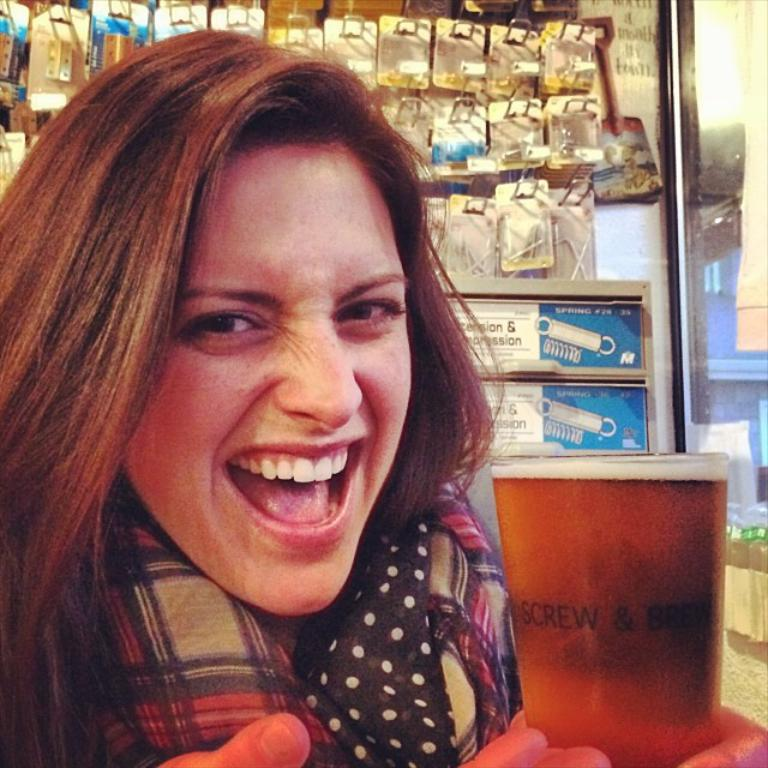Beer: (492, 454, 724, 762)
